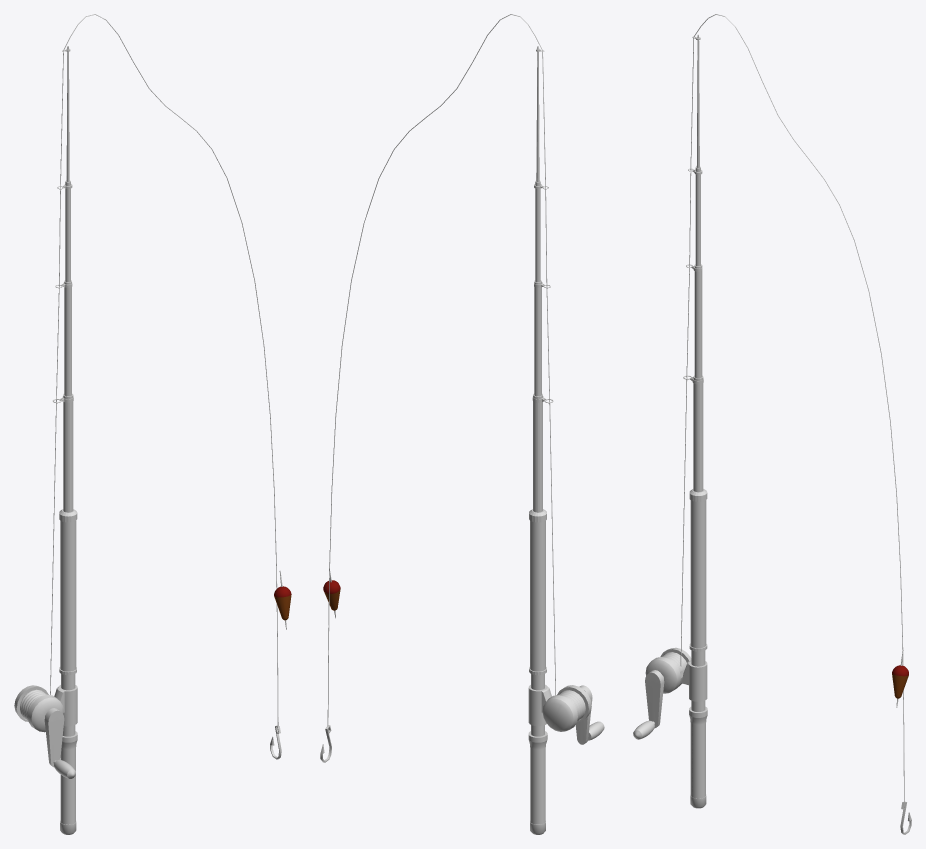
3 renders of one model, left to right at view 1: azimuth 30°, elevation 25°; view 2: azimuth 150°, elevation 25°; view 3: azimuth 330°, elevation 25°, orthographic.
Visible parts, largest first — view 1: Mainbody, Handle _1, Fishingline, Coilbase, Hanlde_2, Joystick, Coilbase_1; view 2: Mainbody, Handle _1, Fishingline, Coilbase, Hanlde_2, Coilbase_1; view 3: Mainbody, Handle _1, Fishingline, Hanlde_2, Coilbase, Joystick, Coilbase_1.
Boxes of the visible parts, x1=… form: Mainbody: x1=59, y1=46, x2=77, y2=834; Handle _1: x1=60, y1=521, x2=76, y2=671; Fishingline: x1=50, y1=14, x2=278, y2=725; Coilbase: x1=14, y1=685, x2=63, y2=732; Hanlde_2: x1=60, y1=748, x2=75, y2=824; Joystick: x1=44, y1=708, x2=64, y2=767; Coilbase_1: x1=54, y1=685, x2=77, y2=726; Mainbody: x1=528, y1=46, x2=547, y2=834; Handle _1: x1=530, y1=520, x2=545, y2=671; Fishingline: x1=327, y1=14, x2=555, y2=725; Coilbase: x1=542, y1=685, x2=591, y2=731; Hanlde_2: x1=530, y1=748, x2=545, y2=824; Coilbase_1: x1=528, y1=684, x2=551, y2=726; Mainbody: x1=689, y1=34, x2=707, y2=808; Handle _1: x1=690, y1=500, x2=706, y2=648; Fishingline: x1=680, y1=14, x2=904, y2=807; Hanlde_2: x1=690, y1=723, x2=705, y2=798; Coilbase: x1=645, y1=647, x2=691, y2=693; Joystick: x1=645, y1=670, x2=664, y2=727; Coilbase_1: x1=681, y1=660, x2=707, y2=701.
Size of the model in its own units: 47.59 by 140 by 14.11.
